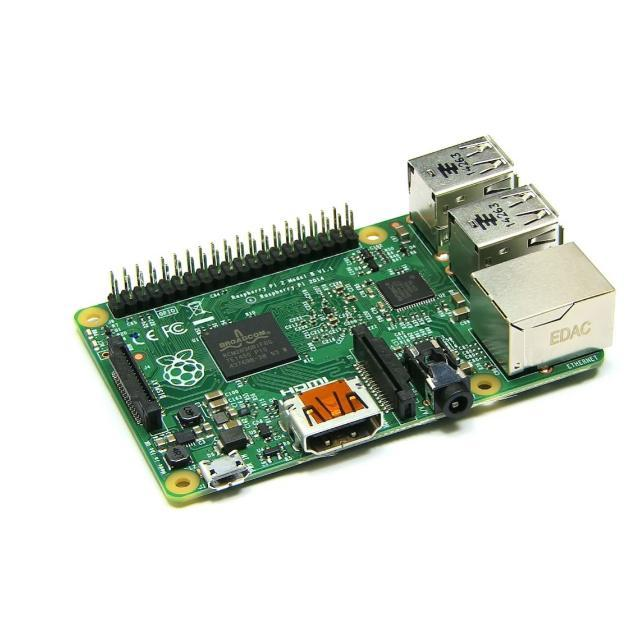Raspberry-Pi-2-B: (77, 137, 615, 501)
